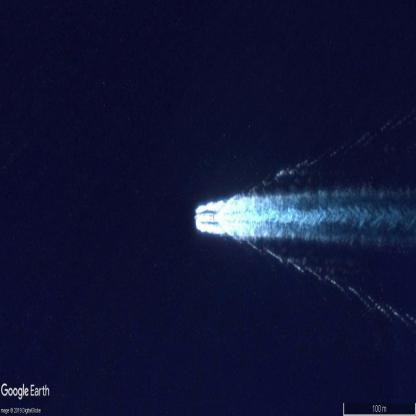ship: (194, 214, 214, 221)
